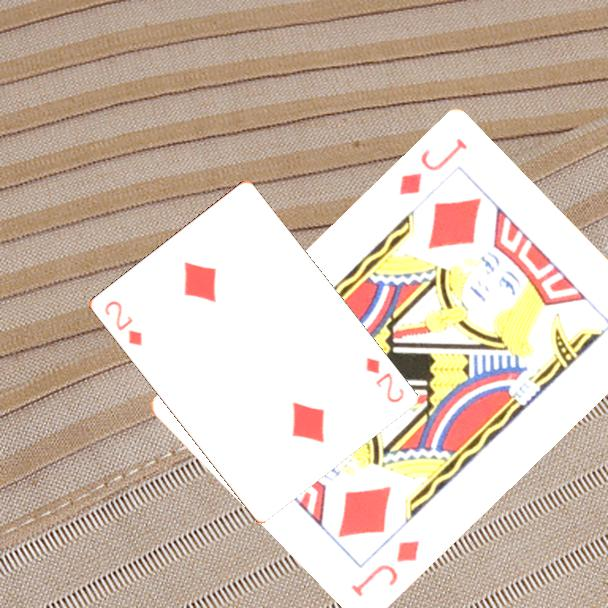d02: (100, 297, 145, 349), (362, 354, 407, 406)
d11: (347, 537, 423, 601), (395, 135, 470, 199)
